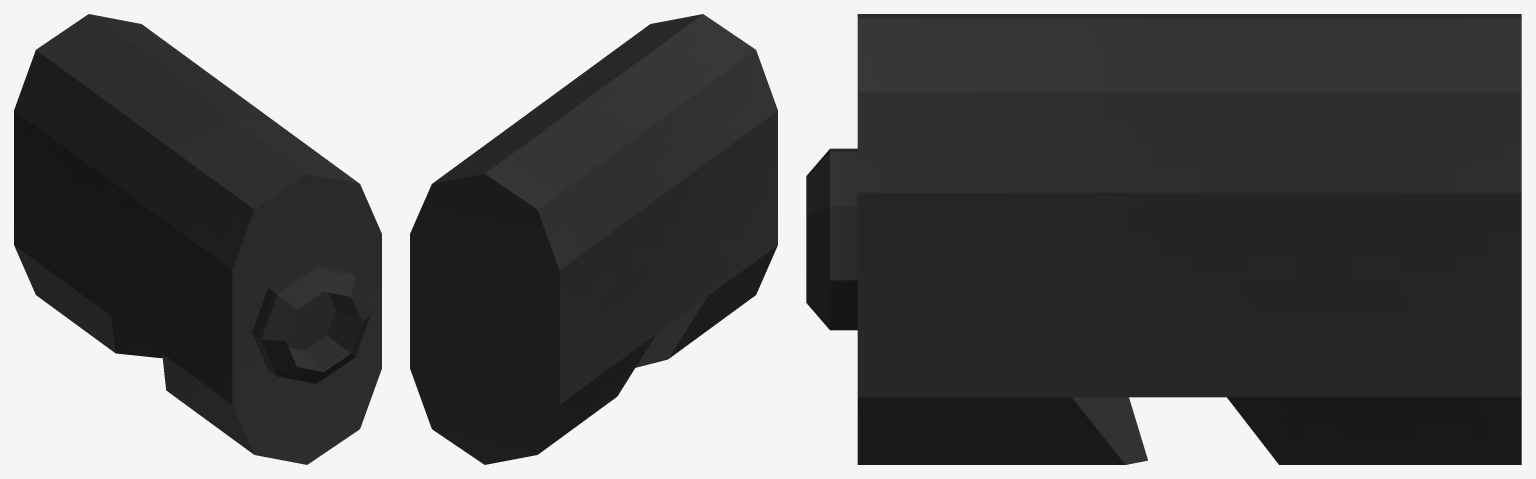
File: HSI_mesh.fbx
The picture shows the model from 3 angles, left to right: view 1: azimuth 30°, elevation 25°; view 2: azimuth 150°, elevation 25°; view 3: azimuth 270°, elevation 25°; orthographic projection. The views are drawn at different scales.
Parts seen in each view (by area): view 1: HSI_mesh; view 2: HSI_mesh; view 3: HSI_mesh.
Boxes of the visible parts, bbox=[...] form: HSI_mesh: bbox=[14, 14, 381, 464]; HSI_mesh: bbox=[410, 14, 777, 464]; HSI_mesh: bbox=[806, 14, 1521, 464].
Size of the model in its own units: 4 by 7.44 by 10.91.
